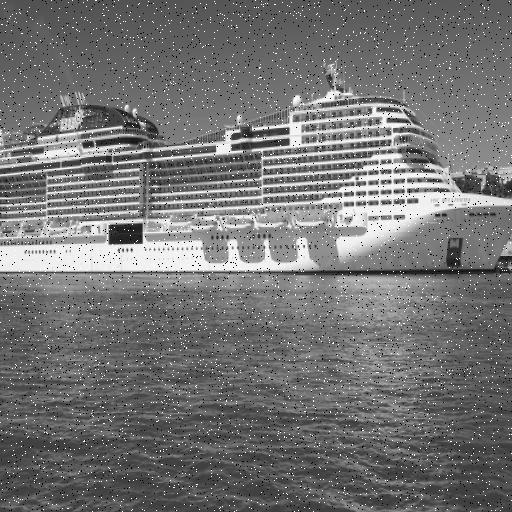cruises: (1, 53, 512, 293)
